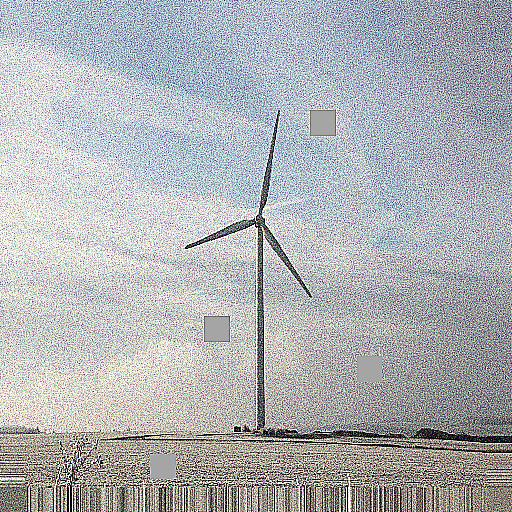wind turbine: (182, 108, 314, 435)
